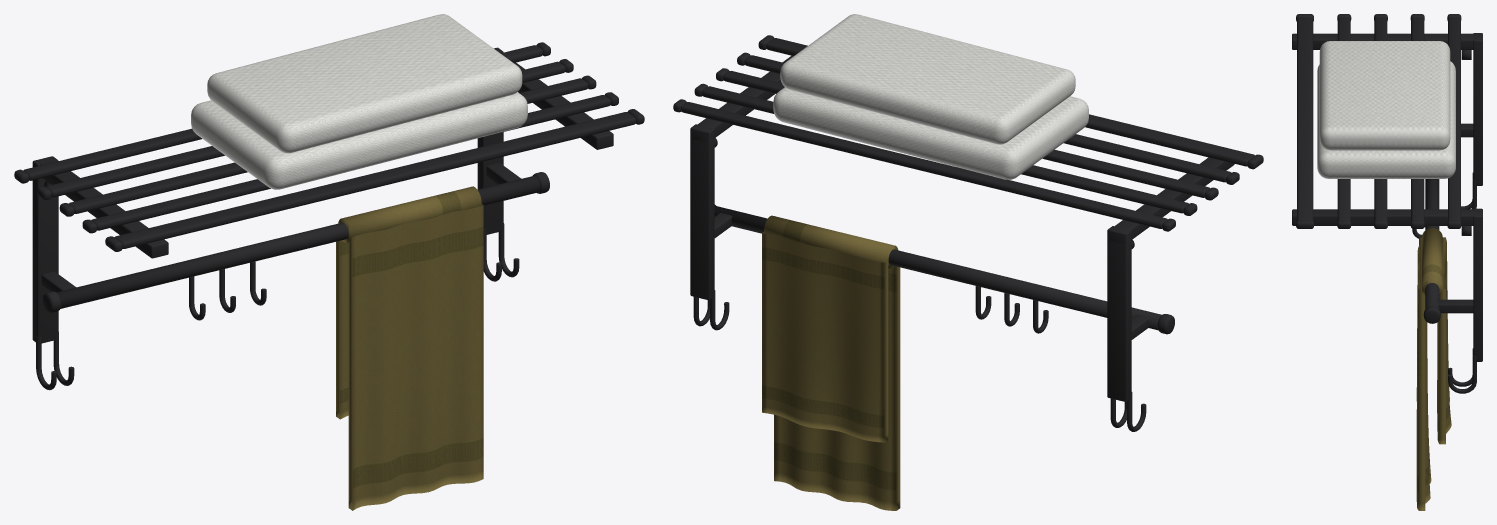
Rendered from bath-towel-rack.glb.
The picture shows the model from 3 angles, left to right: view 1: azimuth 30°, elevation 25°; view 2: azimuth 150°, elevation 25°; view 3: azimuth 270°, elevation 25°; orthographic projection. The views are drawn at different scales.
Visible parts, largest first — view 1: bath-towel-rack; view 2: bath-towel-rack; view 3: bath-towel-rack.
Boxes of the visible parts, x1,y1,x2,y2 form: bath-towel-rack: (14,14,644,510); bath-towel-rack: (673,14,1263,510); bath-towel-rack: (1292,14,1482,510).
Bounding box in the file's own units: 0.608 × 0.505 × 0.234.
Materials: 3 (2 with a texture image).
